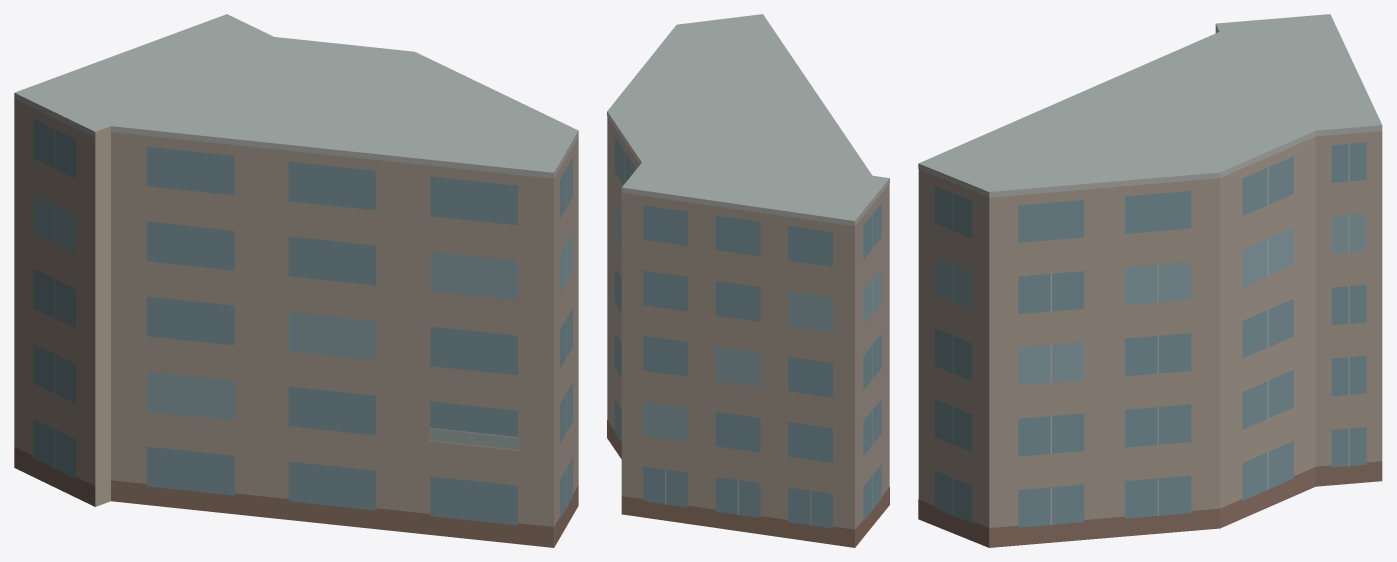
File: survey-upis-33027461.glb
3 renders of one model, left to right at view 1: azimuth 30°, elevation 25°; view 2: azimuth 150°, elevation 25°; view 3: azimuth 270°, elevation 25°, orthographic. The views are drawn at different scales.
Visible parts, largest first — view 1: survey-upis-33027461.tmp; view 2: survey-upis-33027461.tmp; view 3: survey-upis-33027461.tmp.
Part boxes in pixels (<box>): survey-upis-33027461.tmp: <box>14,14,578,547</box>; survey-upis-33027461.tmp: <box>607,14,889,547</box>; survey-upis-33027461.tmp: <box>918,14,1382,547</box>.
Size of the model in its own units: 16.64 by 15.5 by 18.32.
